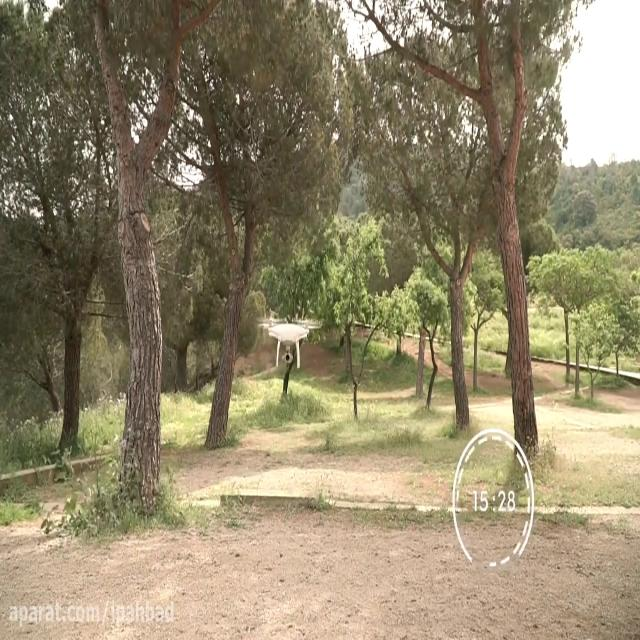drone: (250, 310, 325, 371)
